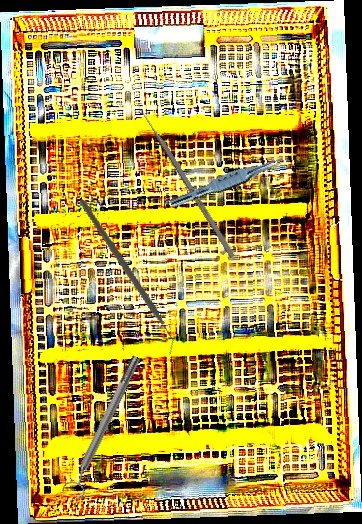Chopper: (36, 198, 215, 356)
Fixation Ring: (59, 351, 149, 502)
Pusher: (133, 99, 236, 259)
Tissue Forceps: (168, 150, 287, 215)
